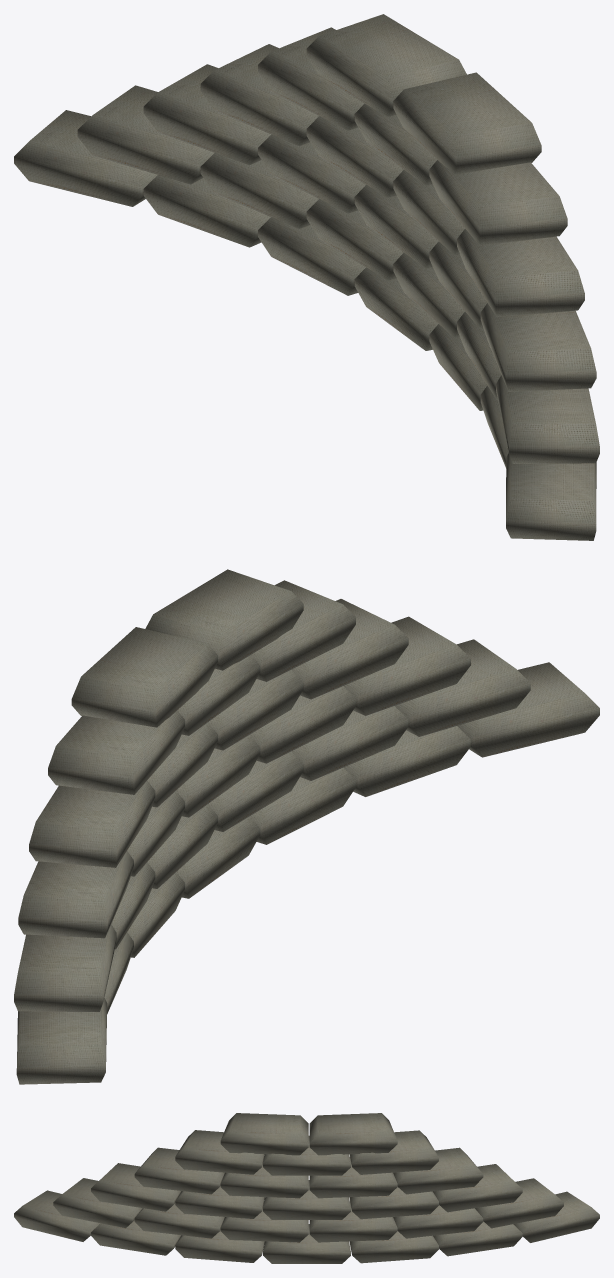
Rendered from sandbag_wall_05.glb.
3 renders of one model, top to bottom at view 1: azimuth 30°, elevation 25°; view 2: azimuth 150°, elevation 25°; view 3: azimuth 270°, elevation 25°, orthographic. The views are drawn at different scales.
Parts seen in each view (by area): view 1: Box004; view 2: Box004; view 3: Box004.
Boxes of the visible parts, x1,y1,x2,y2 form: Box004: (14,14,599,540); Box004: (14,569,599,1084); Box004: (14,1113,599,1263).
Size of the model in its own units: 33.35 by 36.06 by 147.
Materials: 1 (1 with a texture image).
